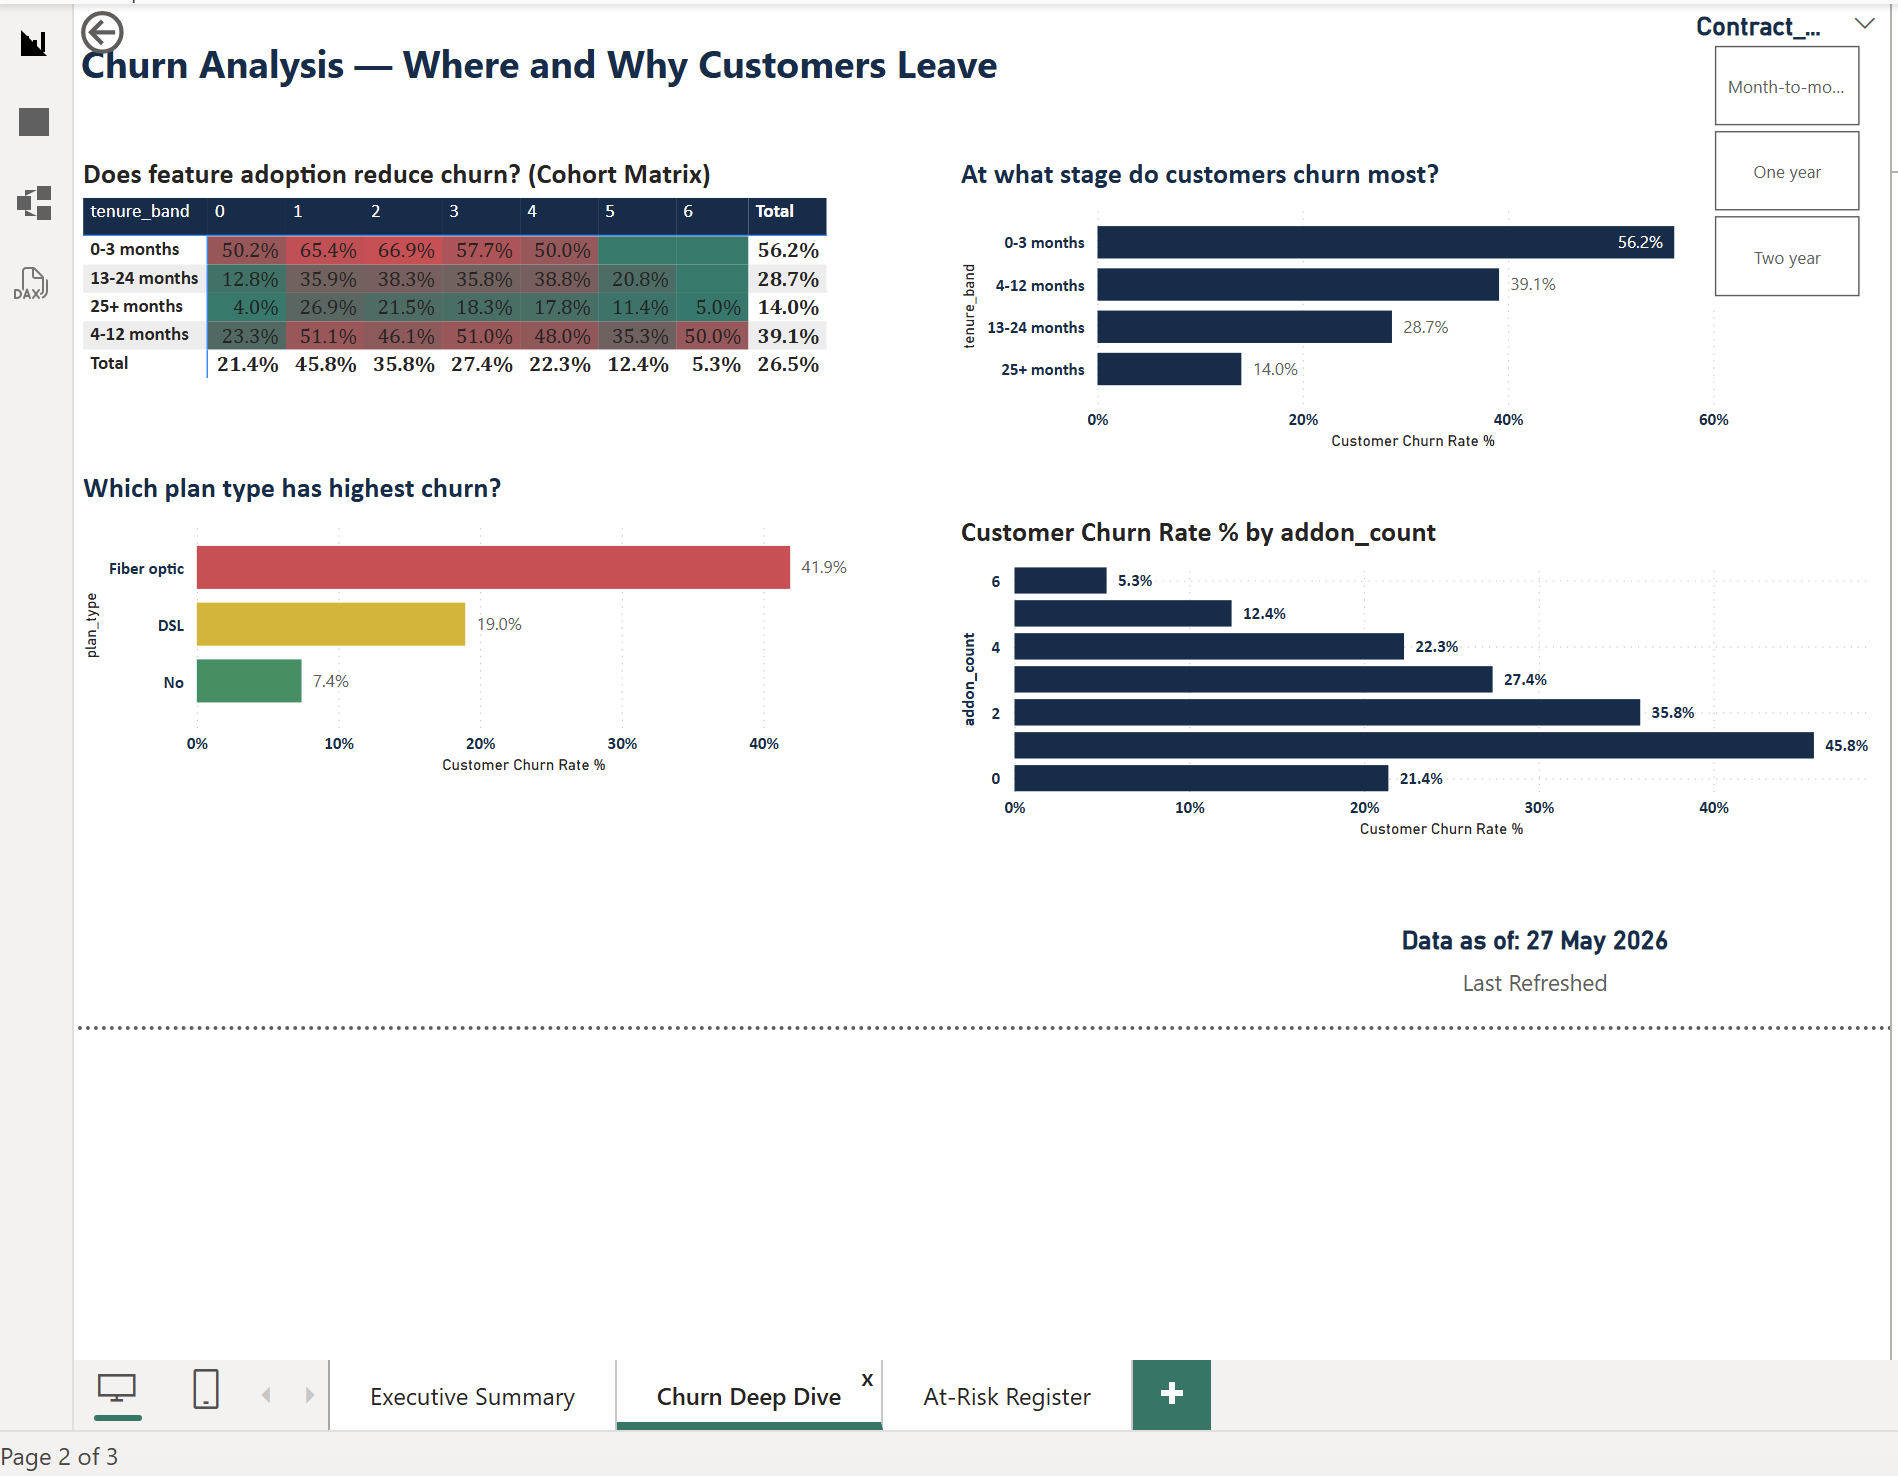

This screenshot's page, from the dashboard's own definition file:
{"tool":"powerbi","page":{"name":"Churn Deep Dive","canvas":[1280,720],"ordinal":1},"visuals":[{"type":"textbox","box":[0,0,1280,720.4],"z":0},{"type":"pivotTable","title":"Does feature adoption reduce churn? (Cohort Matrix)","fields":{"Rows":["fact_customers.tenure_band"],"Columns":["fact_customers.addon_count"],"Values":["_measures.Customer Churn Rate %"]},"box":[1.4,107.1,562.5,173.4],"z":1},{"type":"clusteredBarChart","title":"At what stage do customers churn most?","fields":{"Category":["fact_customers.tenure_band"],"Y":["_measures.Customer Churn Rate %"]},"box":[620.3,107.1,562.5,211.5],"z":2},{"type":"clusteredBarChart","title":"Which plan type has highest churn?","fields":{"Category":["fact_customers.plan_type"],"Y":["_measures.Customer Churn Rate %"]},"box":[1.4,328.5,562.5,218.5],"z":3},{"type":"slicer","fields":{"Values":["fact_customers.contract_type"]},"box":[1130.6,0,152.2,212.9],"z":5},{"type":"actionButton","box":[0,0,100,40],"z":6},{"type":"card","fields":{"Values":["_measures.Last Refreshed"]},"box":[778.1,620.3,503.3,101.5],"z":7},{"type":"clusteredBarChart","fields":{"Category":["fact_customers.addon_count"],"Y":["_measures.Customer Churn Rate %"]},"box":[620.3,359.5,661.1,232.6],"z":8}]}

Visuals, with their boxes on the page's 1280x720 design canvas (x1, y1, x2, y2). These are canvas units, not pixel positions in the 1898x1476 screenshot, which may show the page scaled, cropped or inside an application window:
textbox: 0:0:1280:720
"Does feature adoption reduce churn? (Cohort Matrix)" pivotTable: 1:107:564:280
"At what stage do customers churn most?" clusteredBarChart: 620:107:1183:319
"Which plan type has highest churn?" clusteredBarChart: 1:328:564:547
slicer - fact_customers.contract_type: 1131:0:1283:213
actionButton: 0:0:100:40
card - _measures.Last Refreshed: 778:620:1281:722
clusteredBarChart - fact_customers.addon_count x _measures.Customer Churn Rate %: 620:360:1281:592
